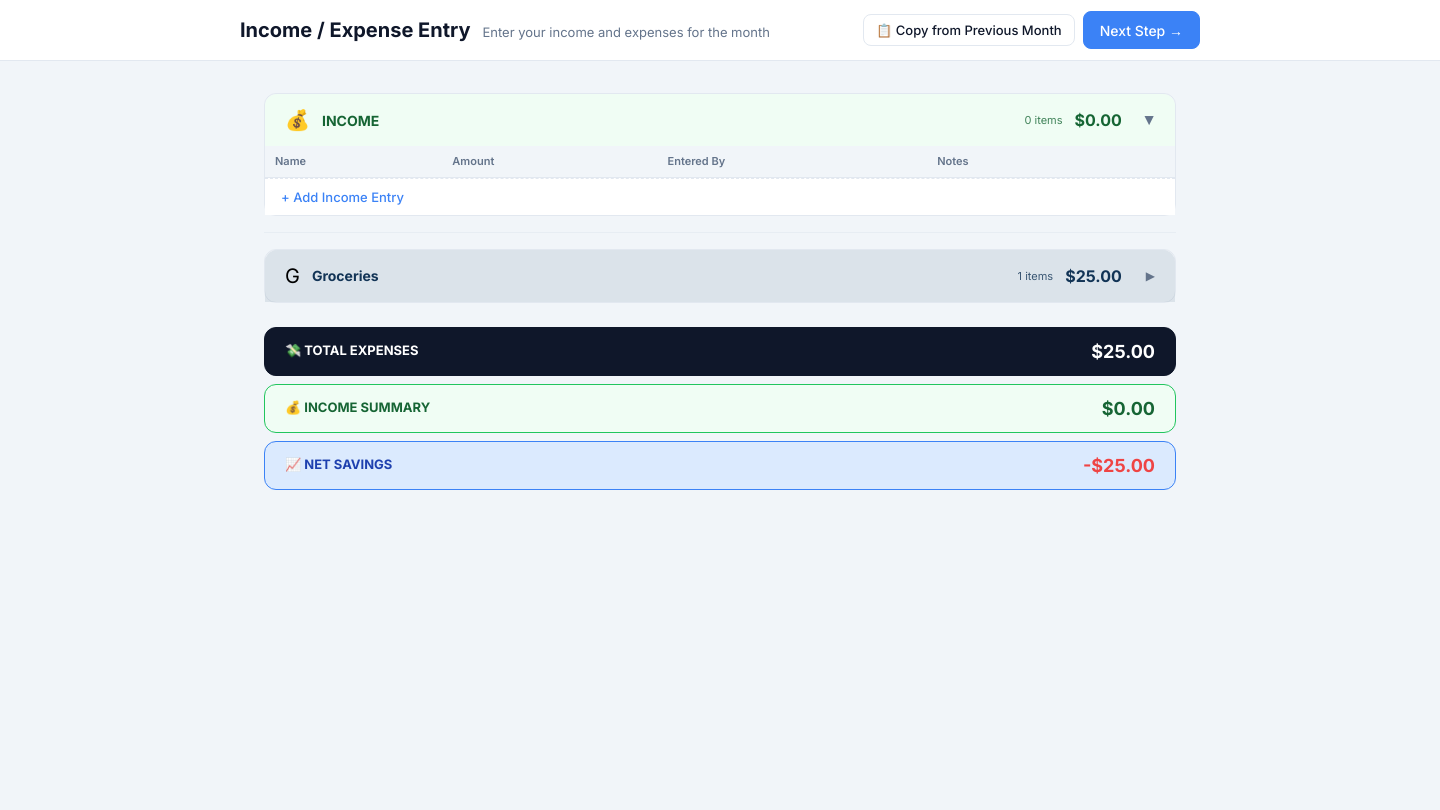
Test: expense copying and temporary row highlights › keeps successful copies during partial failure and retries only failures
Click the button "📋 Copy from Previous Month" at (969, 30), box [863, 14, 1075, 46]
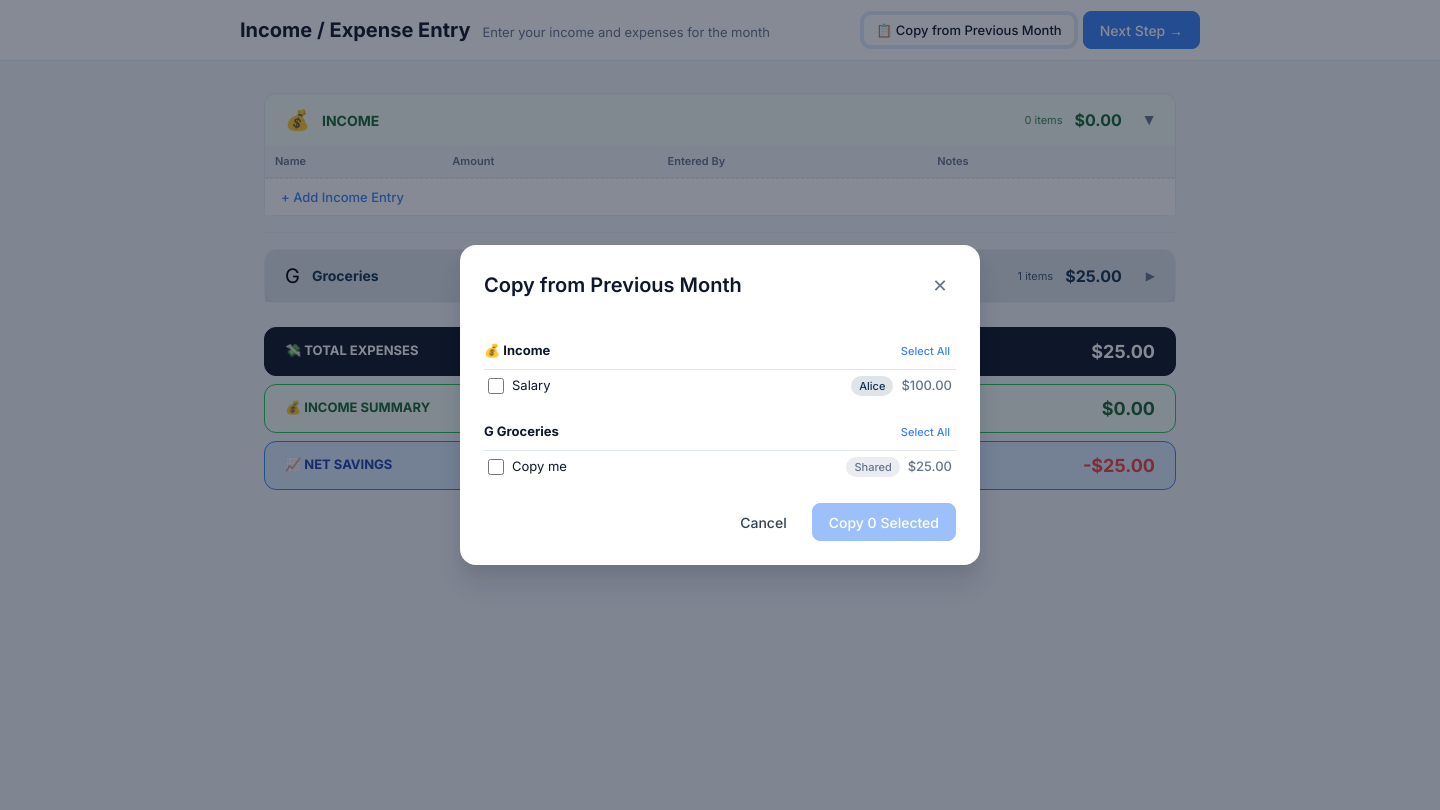
Click the checkbox labelled "Copy me Shared $25.00" at (496, 467), box [488, 459, 504, 475]
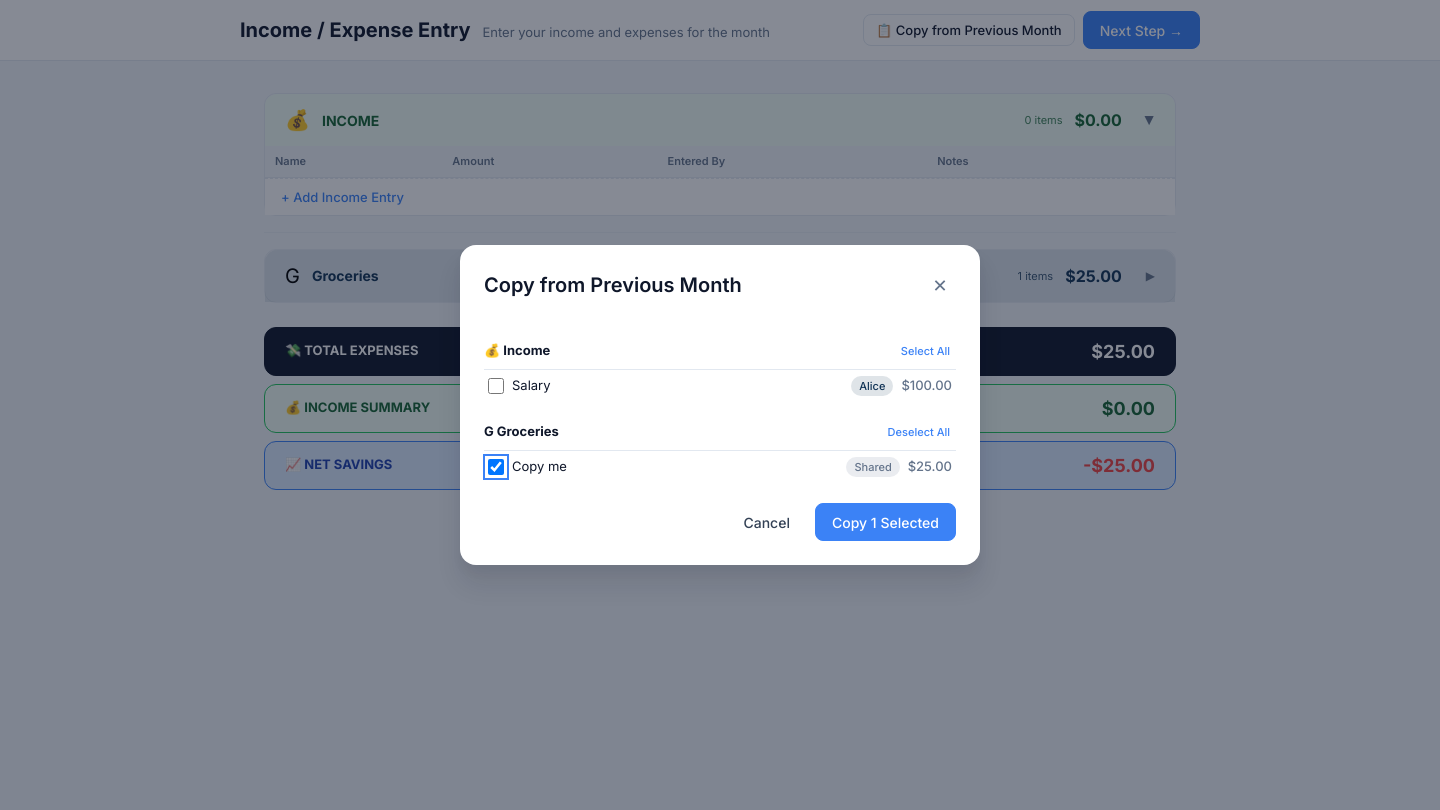
Click the checkbox labelled "Salary Alice $100.00" at (496, 386), box [488, 378, 504, 394]
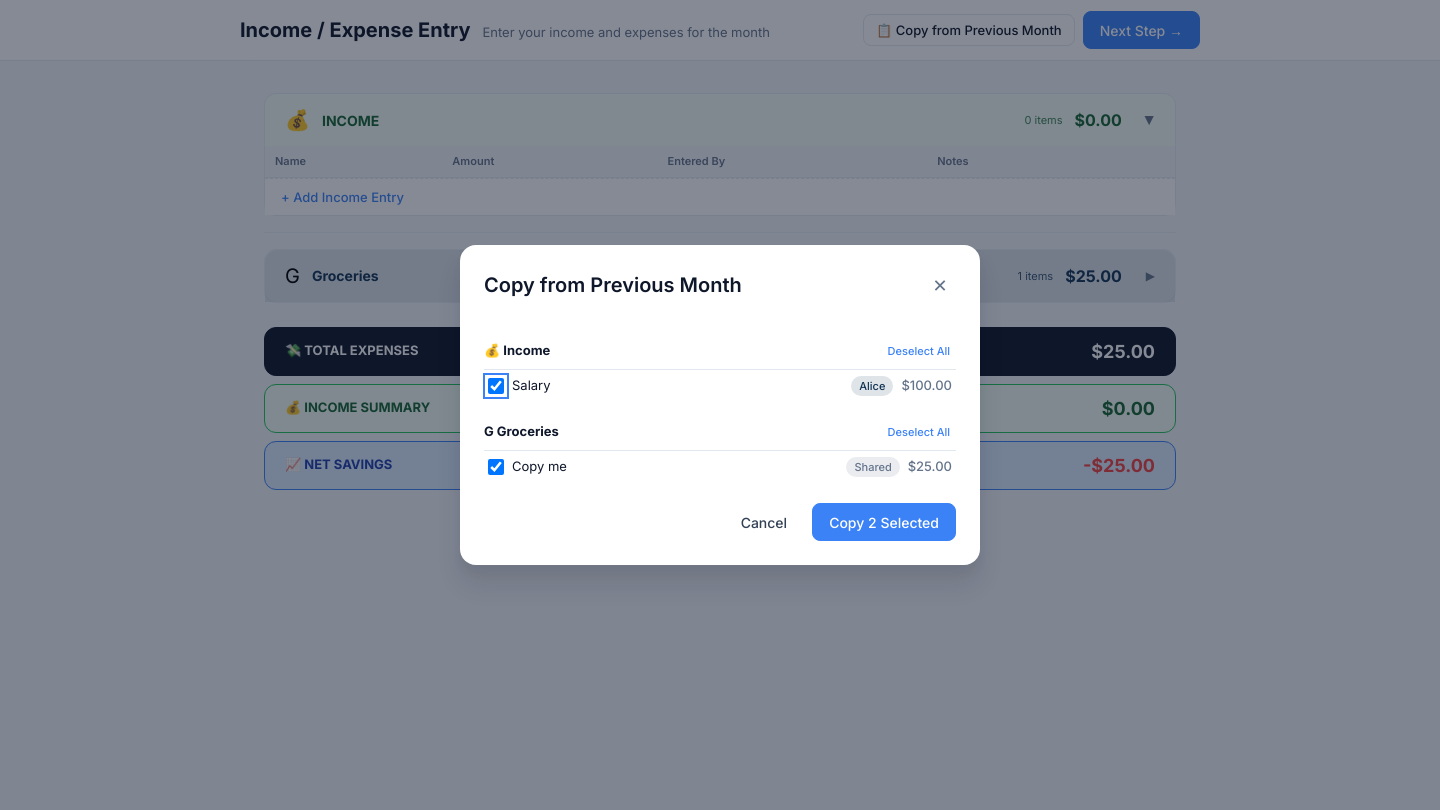
Click the button "Copy 2 Selected" at (884, 522), box [812, 503, 956, 541]
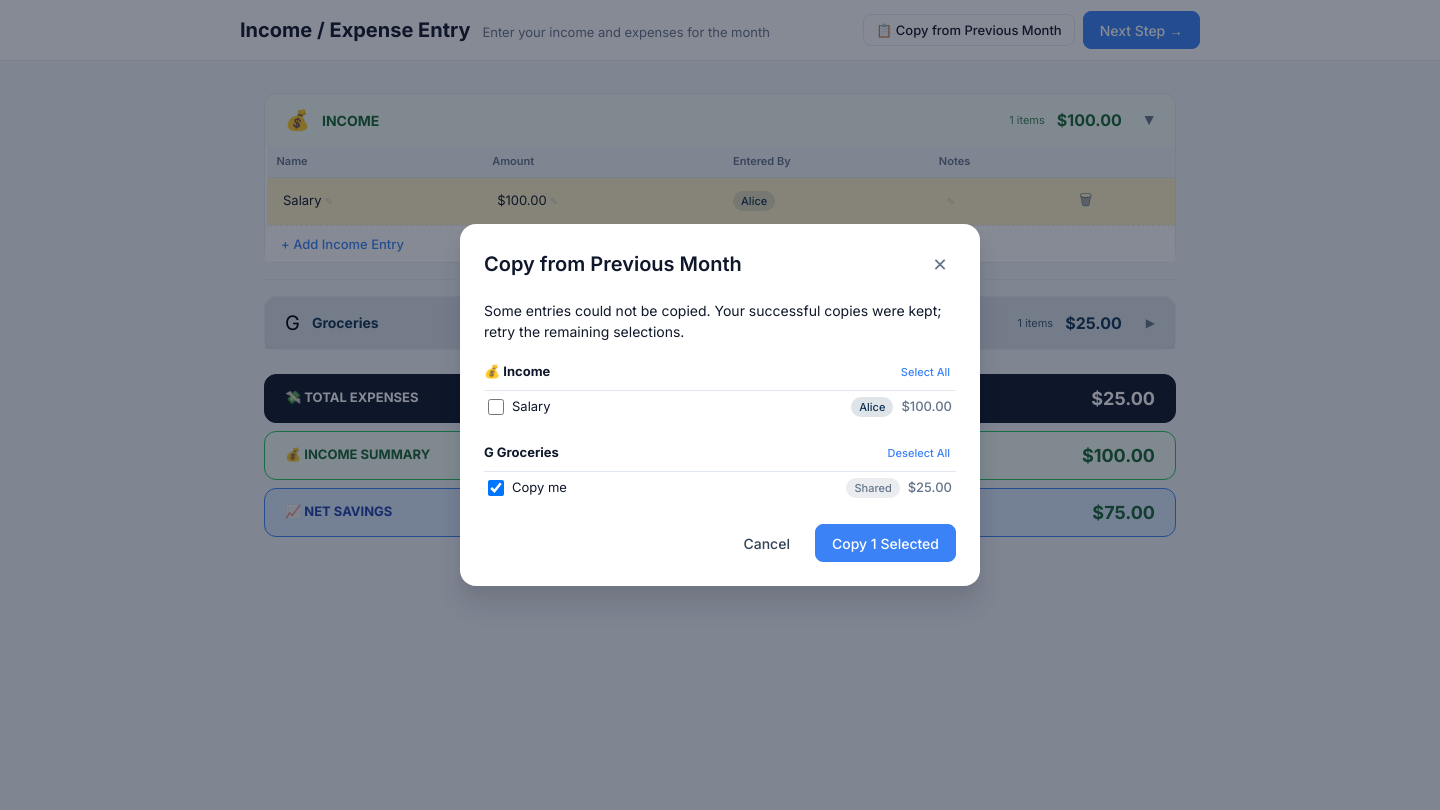
Expected: the message shows "successful copies were kept", [484, 302, 942, 340]
Click the button "Copy 1 Selected" at (886, 543), box [815, 524, 956, 562]
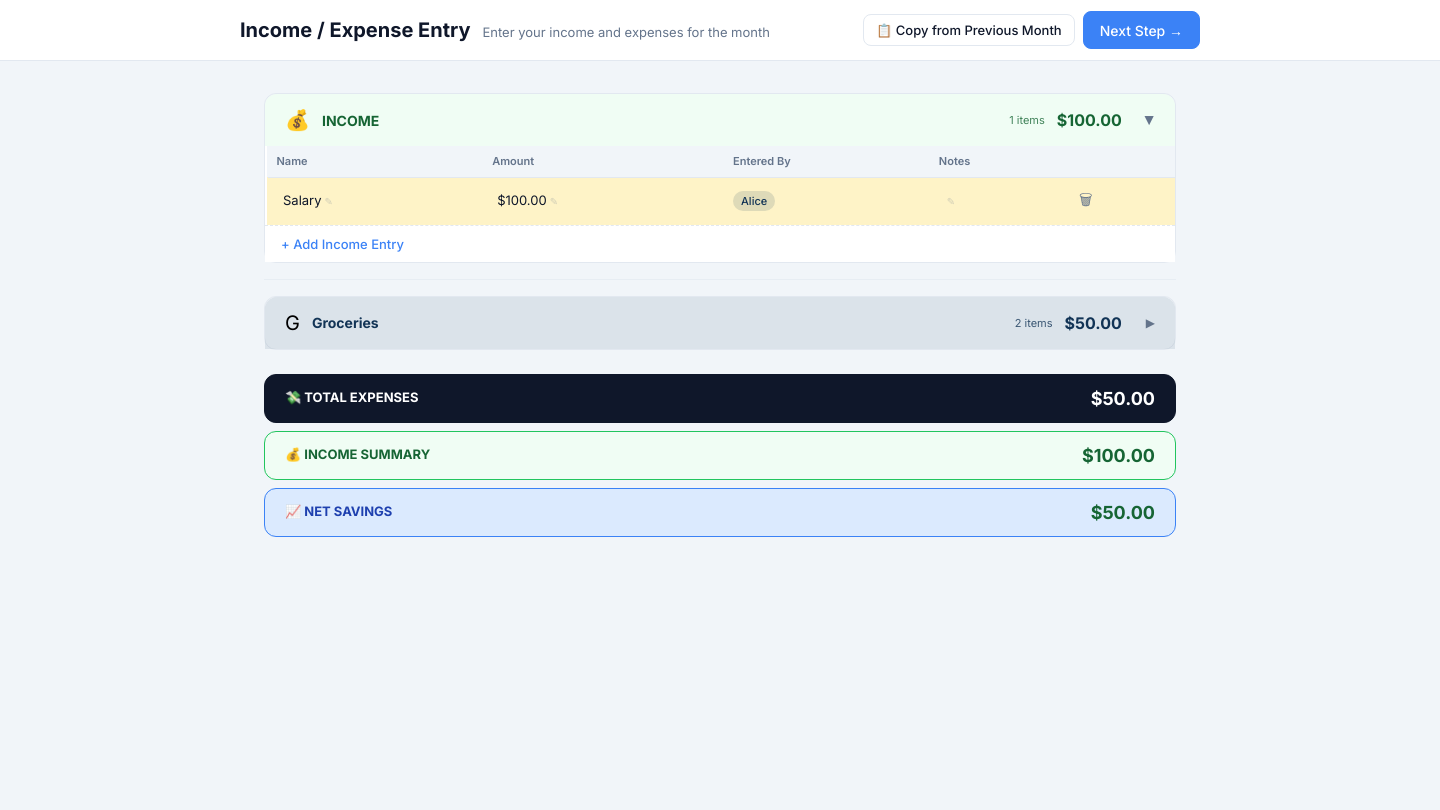
Expected: the dialog is gone
